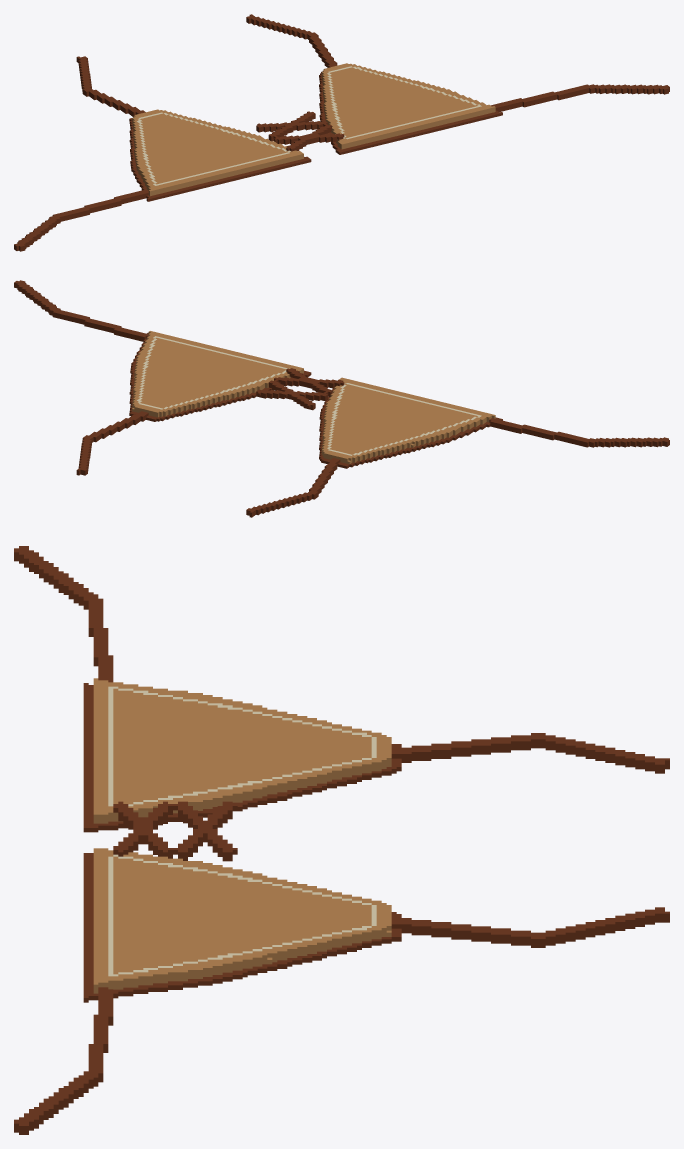
File: bikini_top_leather.glb
3 renders of one model, top to bottom at view 1: azimuth 30°, elevation 25°; view 2: azimuth 150°, elevation 25°; view 3: azimuth 270°, elevation 25°, orthographic. The views are drawn at different scales.
Visible parts, largest first — view 1: bikini_top_leather:compound; view 2: bikini_top_leather:compound; view 3: bikini_top_leather:compound.
Part boxes in pixels (x1,y1,x2,y2): bikini_top_leather:compound: (14,14,669,251); bikini_top_leather:compound: (14,280,669,517); bikini_top_leather:compound: (14,546,669,1134).
Bounding box in the file's own units: 0.552 × 0.008 × 0.264.
